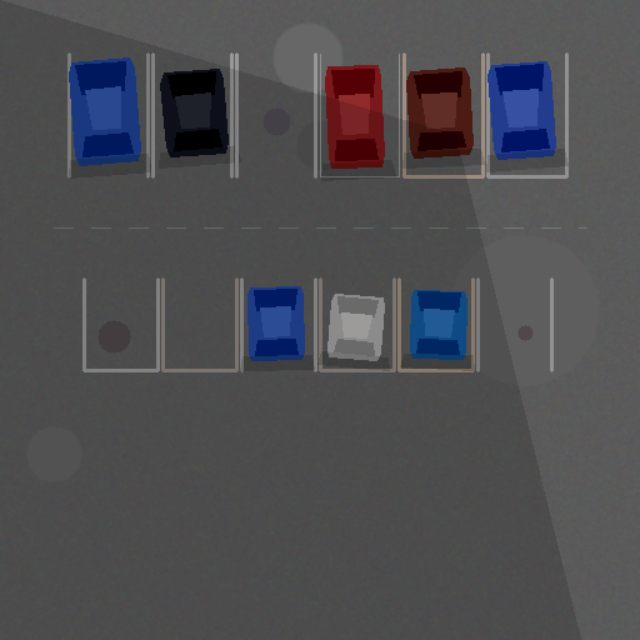space-empty: (236, 54, 315, 176), (84, 279, 158, 370), (162, 279, 236, 370), (478, 279, 551, 370)
space-occupied: (320, 54, 399, 176), (404, 54, 483, 176), (487, 54, 566, 176), (69, 54, 147, 176), (153, 54, 231, 176), (241, 279, 315, 370), (320, 279, 394, 370), (399, 279, 472, 370)
